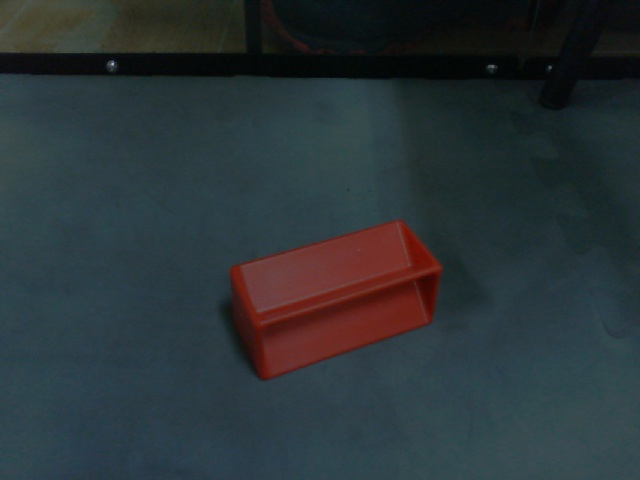RedSample: (228, 217, 445, 382)
